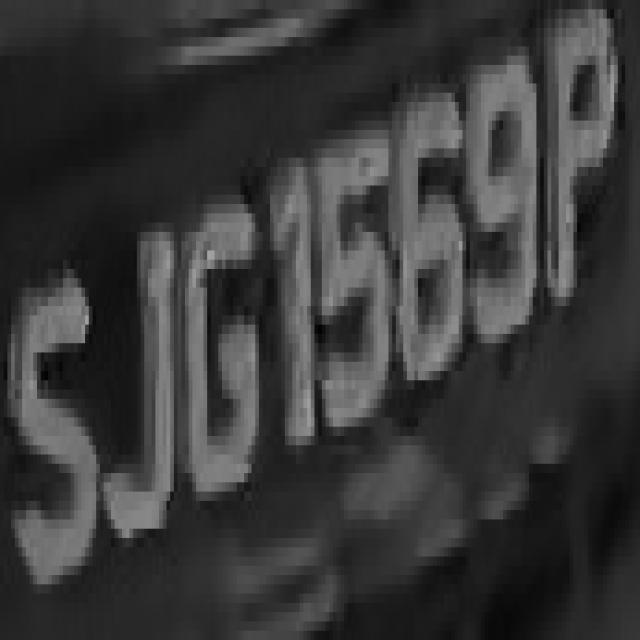1: (274, 130, 322, 491)
5: (311, 112, 388, 454)
6: (389, 65, 466, 417)
9: (459, 19, 536, 380)
G: (182, 157, 266, 528)
J: (89, 148, 174, 566)
P: (533, 0, 629, 315)
S: (0, 4, 1, 10)
